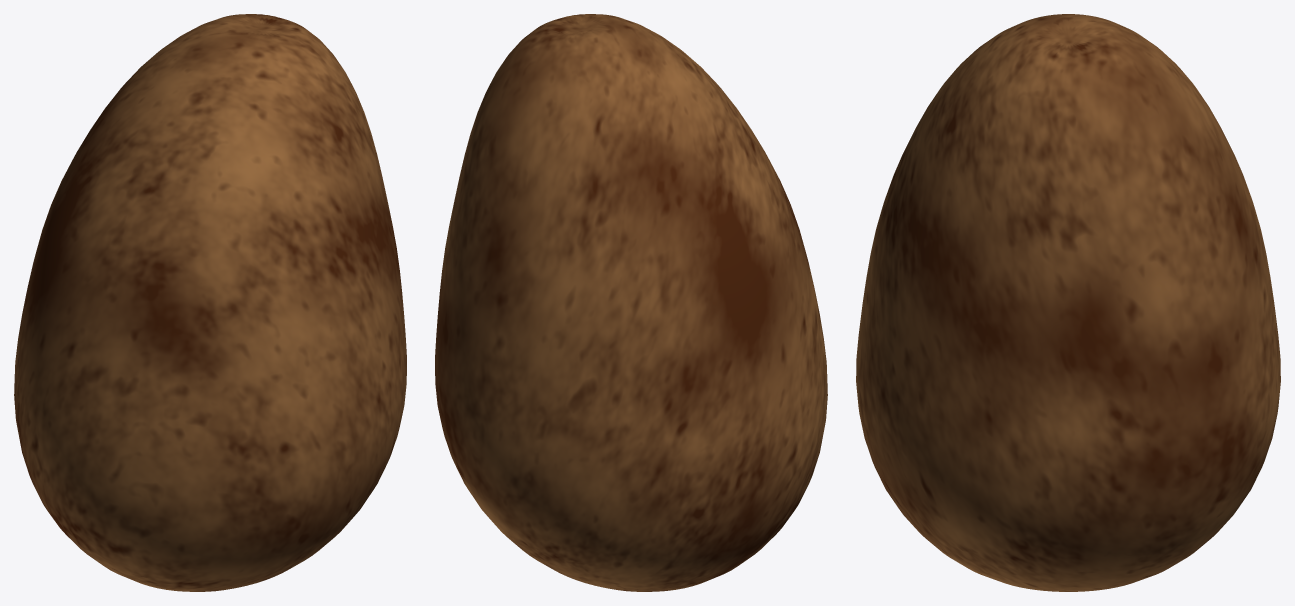
Rendered from potato.fbx.
3 views of the same model, side by side, from view 1: azimuth 30°, elevation 25°; view 2: azimuth 150°, elevation 25°; view 3: azimuth 270°, elevation 25° (orthographic). The views are drawn at different scales.
Visible parts, largest first — view 1: potato_low; view 2: potato_low; view 3: potato_low.
Boxes of the visible parts, x1,y1,x2,y2 form: potato_low: (14, 14, 406, 591); potato_low: (435, 14, 827, 591); potato_low: (856, 14, 1280, 591).
Size of the model in its own units: 207 by 310 by 209.
Materials: 1 (1 with a texture image).
